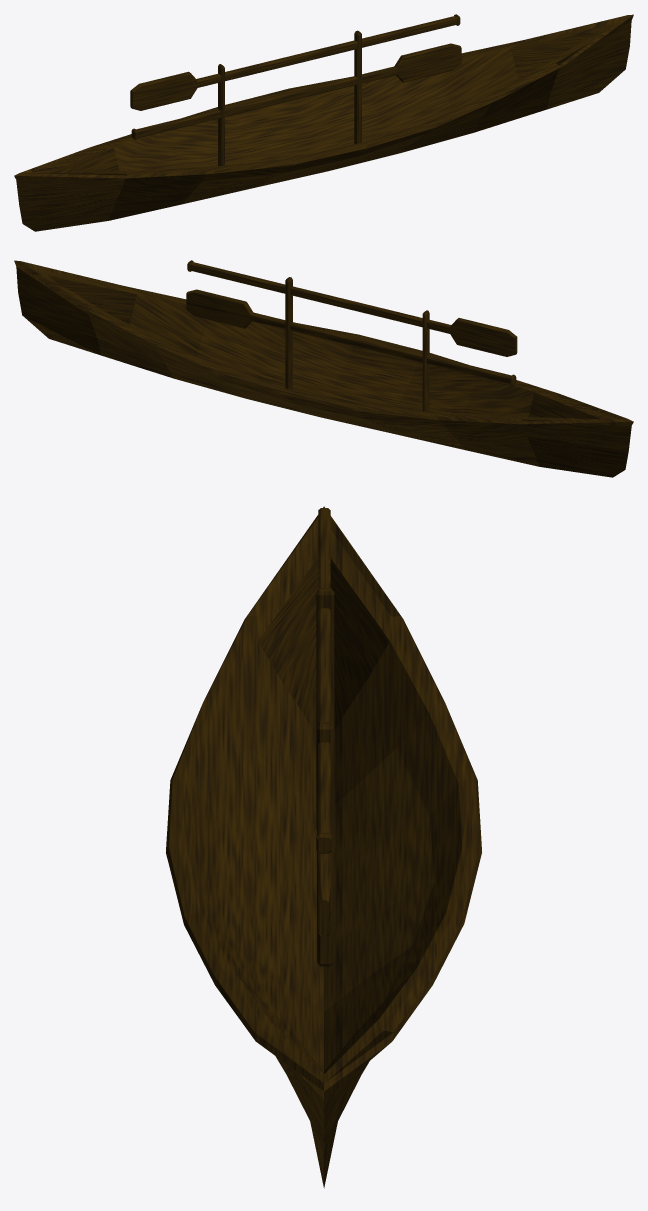
File: Boat.fbx
3 renders of one model, top to bottom at view 1: azimuth 30°, elevation 25°; view 2: azimuth 150°, elevation 25°; view 3: azimuth 270°, elevation 25°, orthographic. The views are drawn at different scales.
Visible parts, largest first — view 1: polySurface71; view 2: polySurface71; view 3: polySurface71.
Boxes of the visible parts, x1,y1,x2,y2 form: polySurface71: [14, 14, 633, 231]; polySurface71: [14, 260, 633, 477]; polySurface71: [166, 506, 481, 1188].
Size of the model in its own units: 561 by 115 by 124.
1 material, 1 textured.
